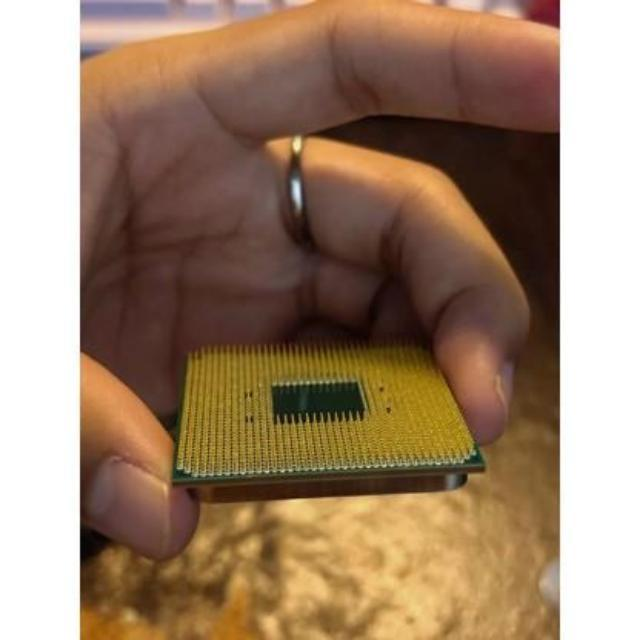CPU: (167, 336, 490, 499)
